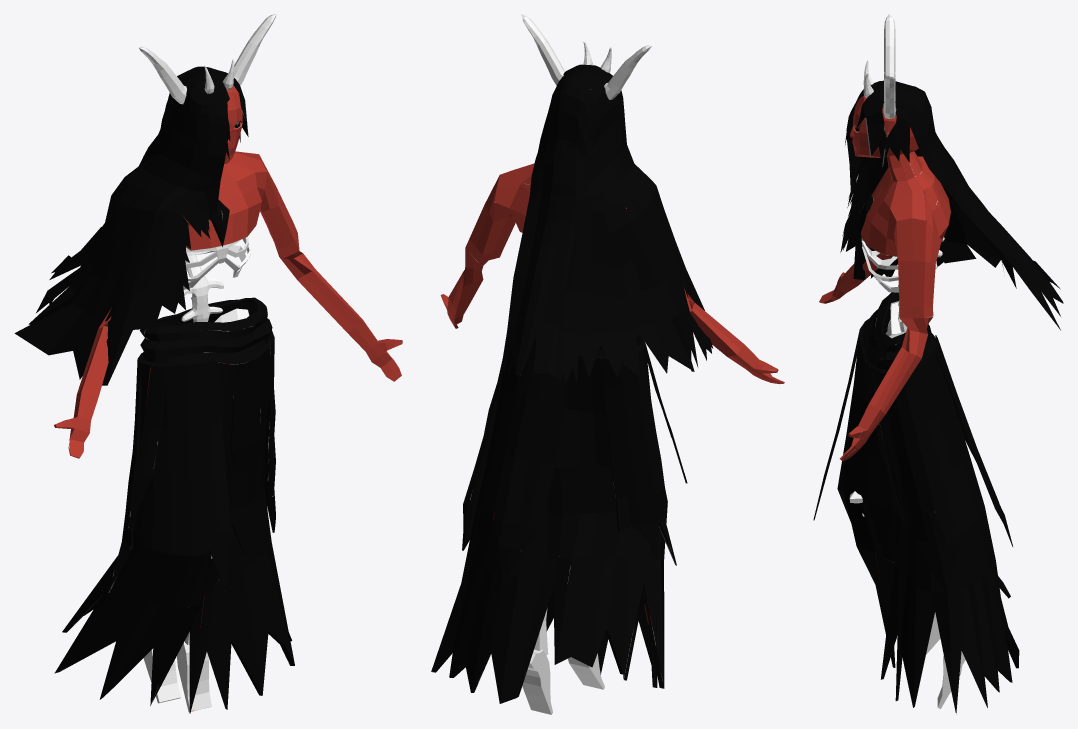
Rendered from cursedqueenattack_25.fbx.
3 views of the same model, side by side, from view 1: azimuth 30°, elevation 25°; view 2: azimuth 150°, elevation 25°; view 3: azimuth 270°, elevation 25° (orthographic). The views are drawn at different scales.
Visible parts, largest first — view 1: cursed_queen; view 2: cursed_queen; view 3: cursed_queen.
Boxes of the visible parts, x1=… form: cursed_queen: x1=14, y1=14, x2=402, y2=713; cursed_queen: x1=431, y1=14, x2=784, y2=714; cursed_queen: x1=813, y1=14, x2=1063, y2=714.
Bounding box in the file's own units: 146 × 280 × 97.51.
